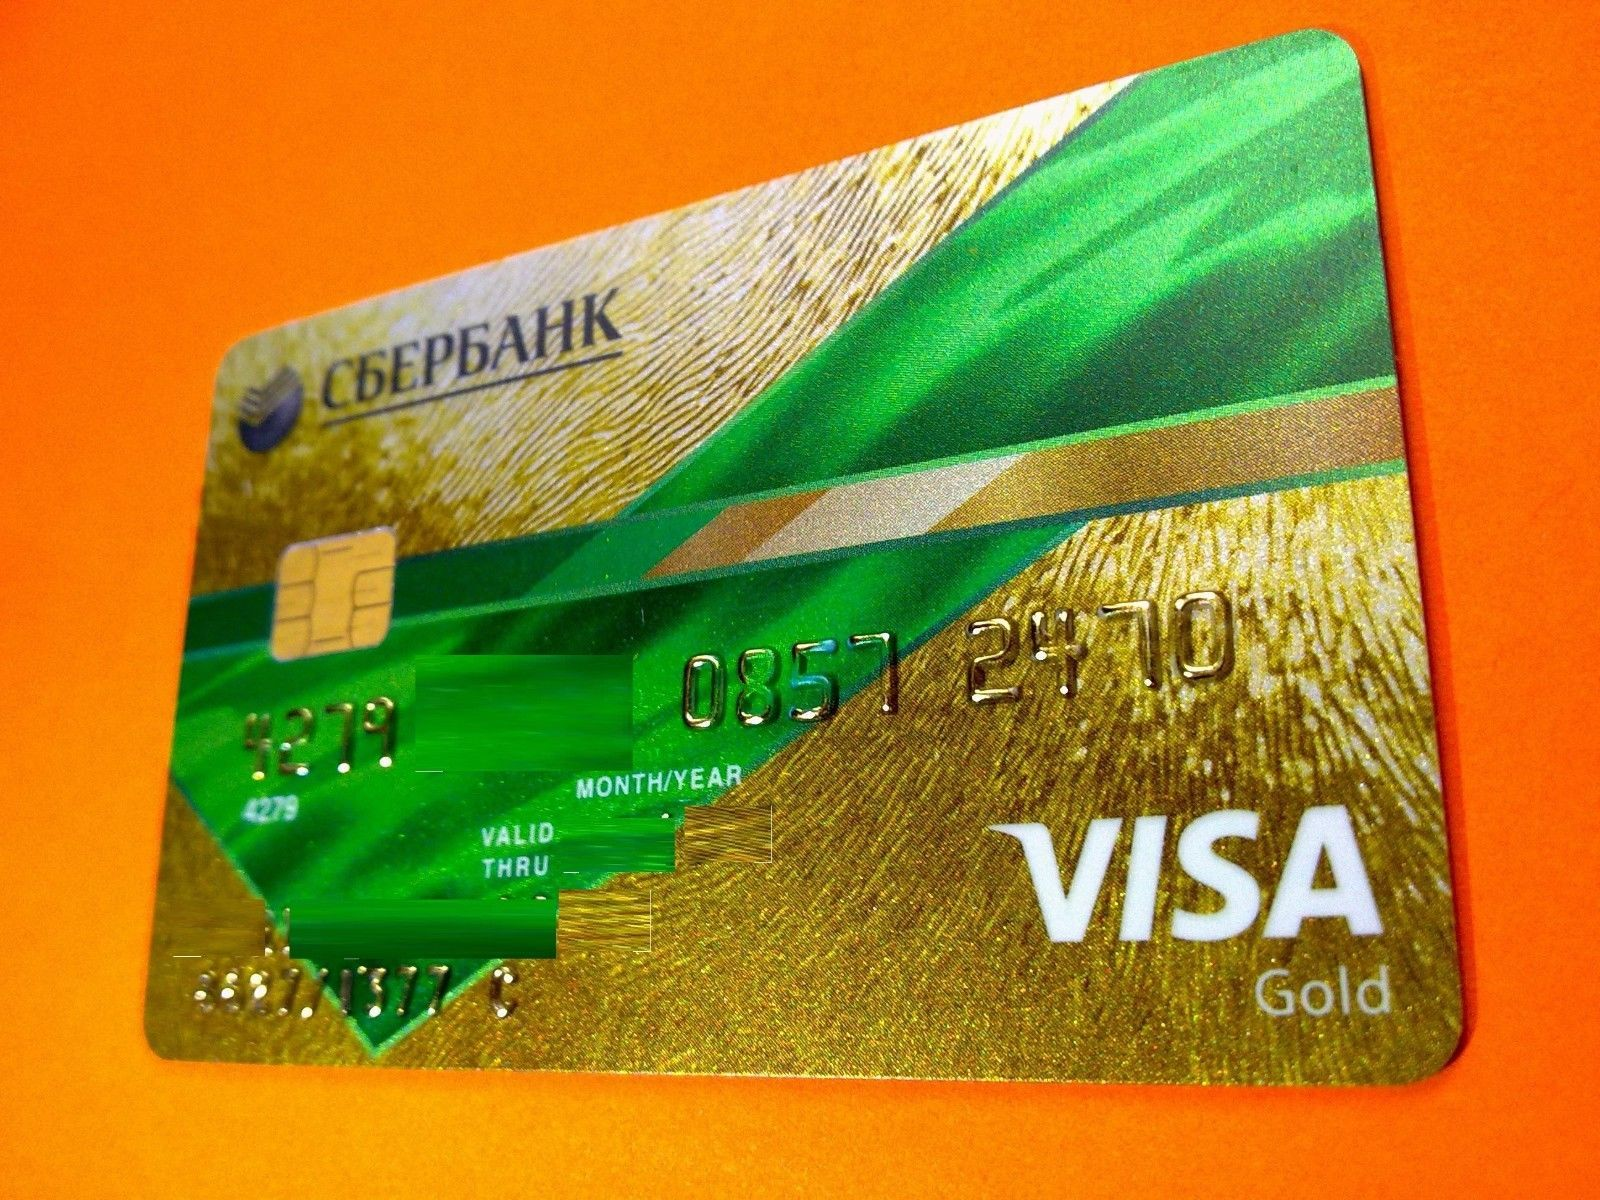card: (142, 25, 1465, 1087)
